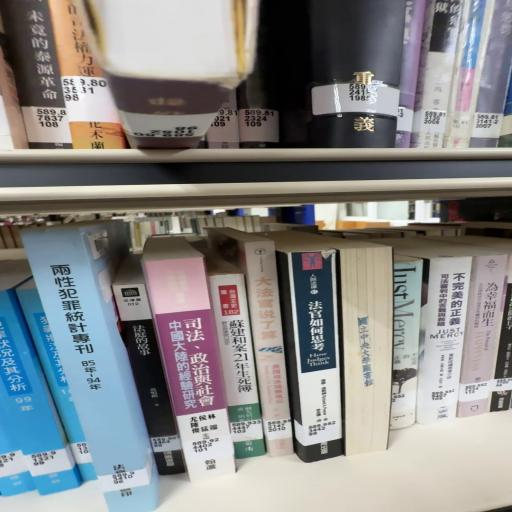backward: (342, 247, 393, 460)
book: (147, 233, 241, 478), (111, 234, 185, 476), (228, 235, 295, 463), (287, 251, 348, 465), (206, 271, 268, 468), (418, 261, 475, 430), (456, 255, 509, 420)
